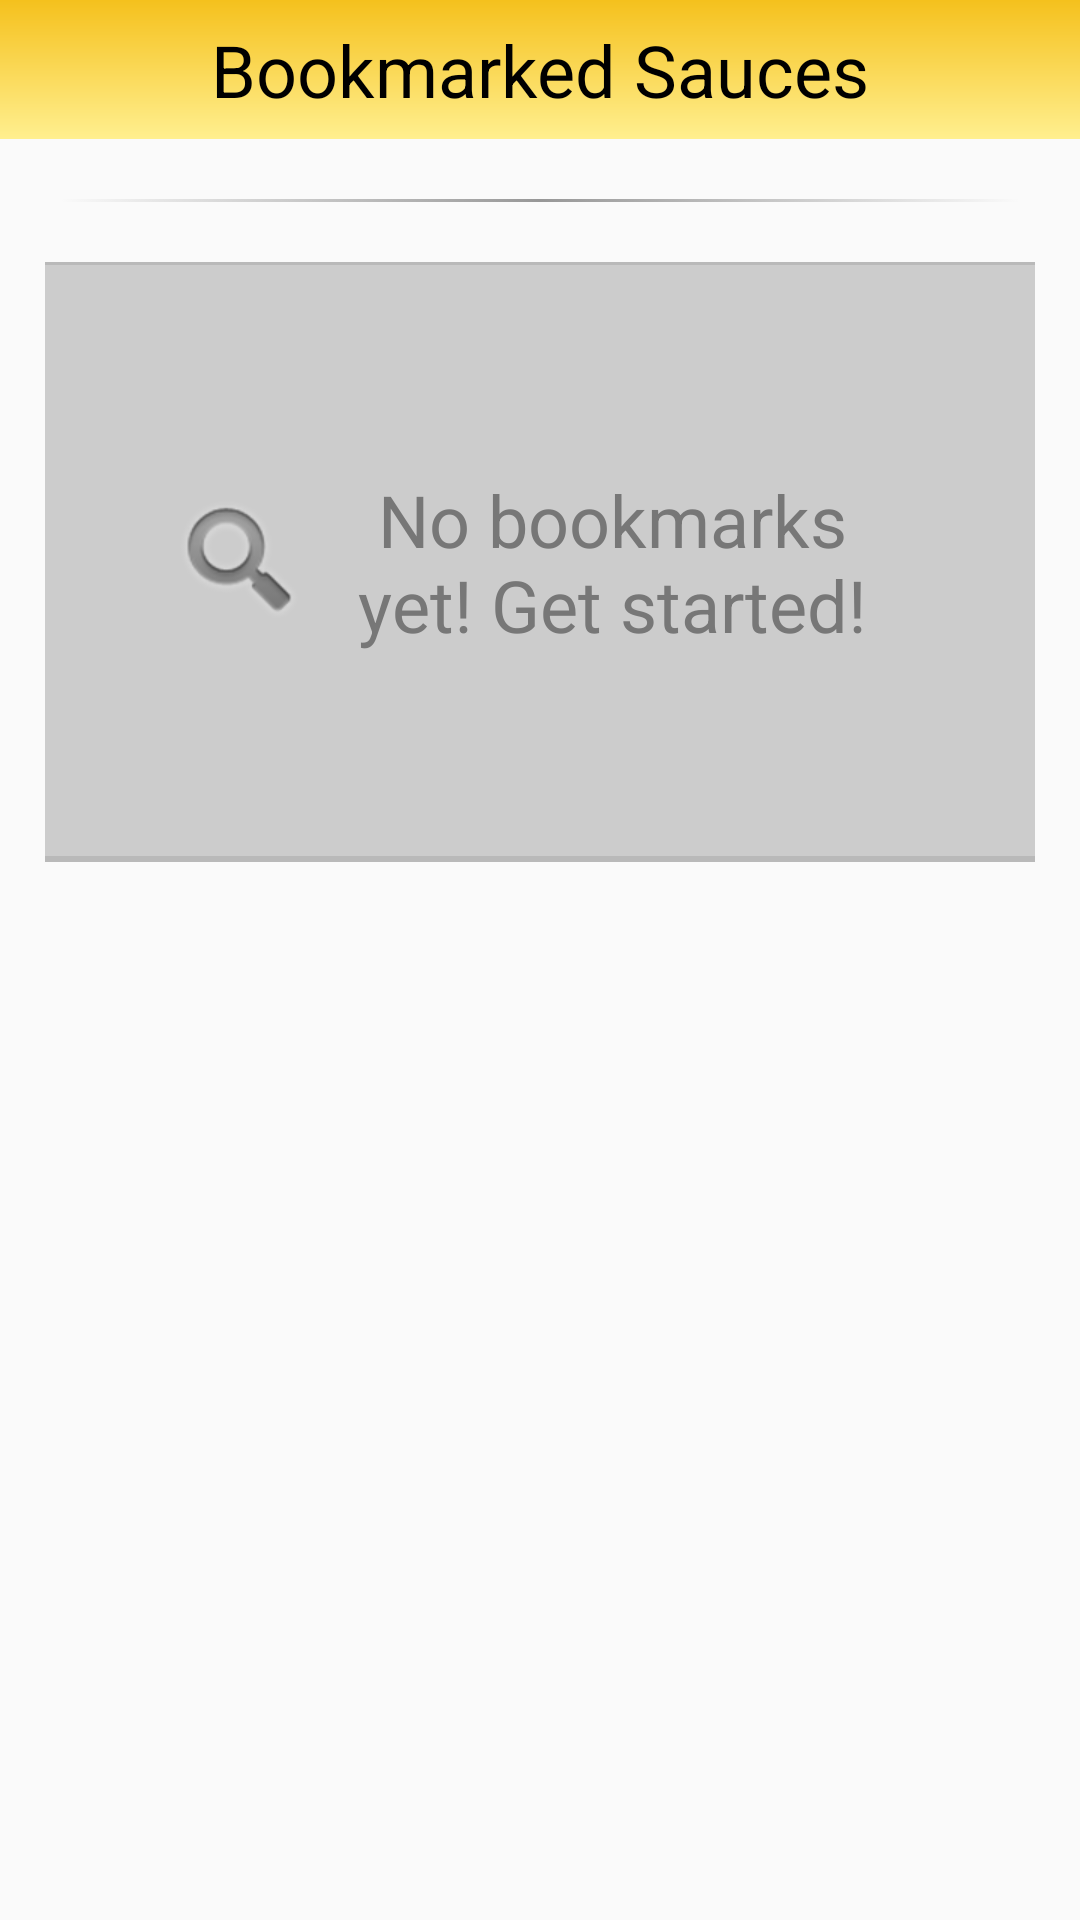

Screen size 1080w x 1920h. Icon name, then its box in pixels as (x1, y1, x2, y2):
Search icon: (188, 508, 291, 610)
